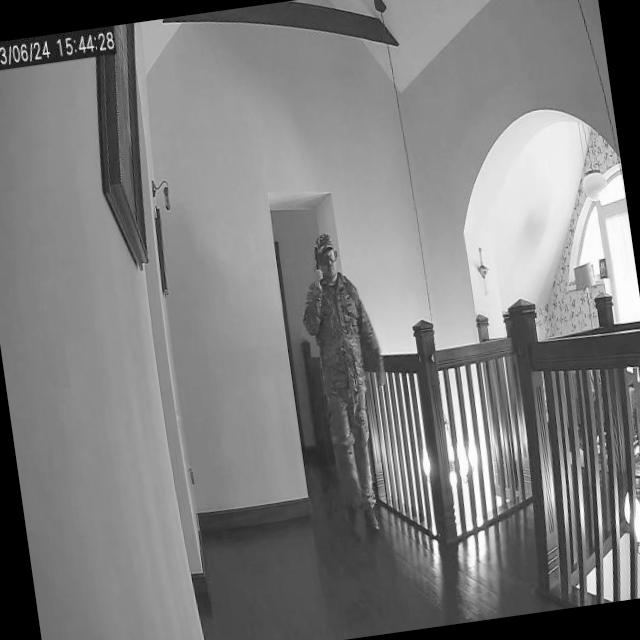gun: (312, 243, 324, 284)
person with a gun: (292, 230, 391, 542)
